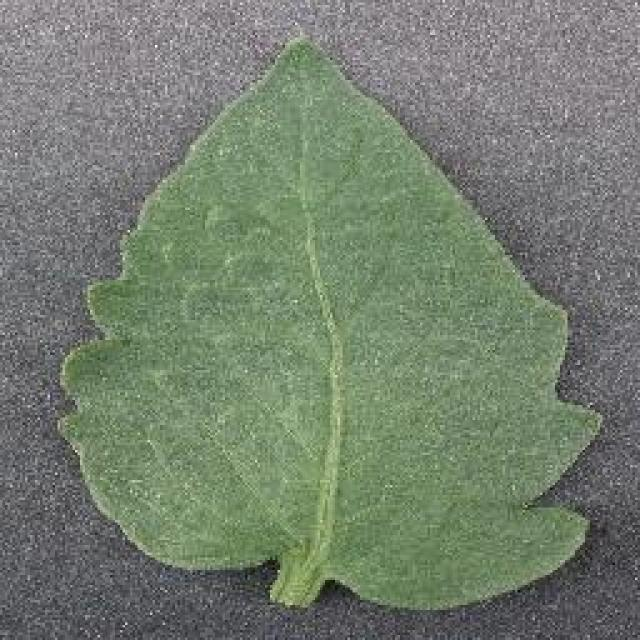healthy: (52, 36, 606, 614)
